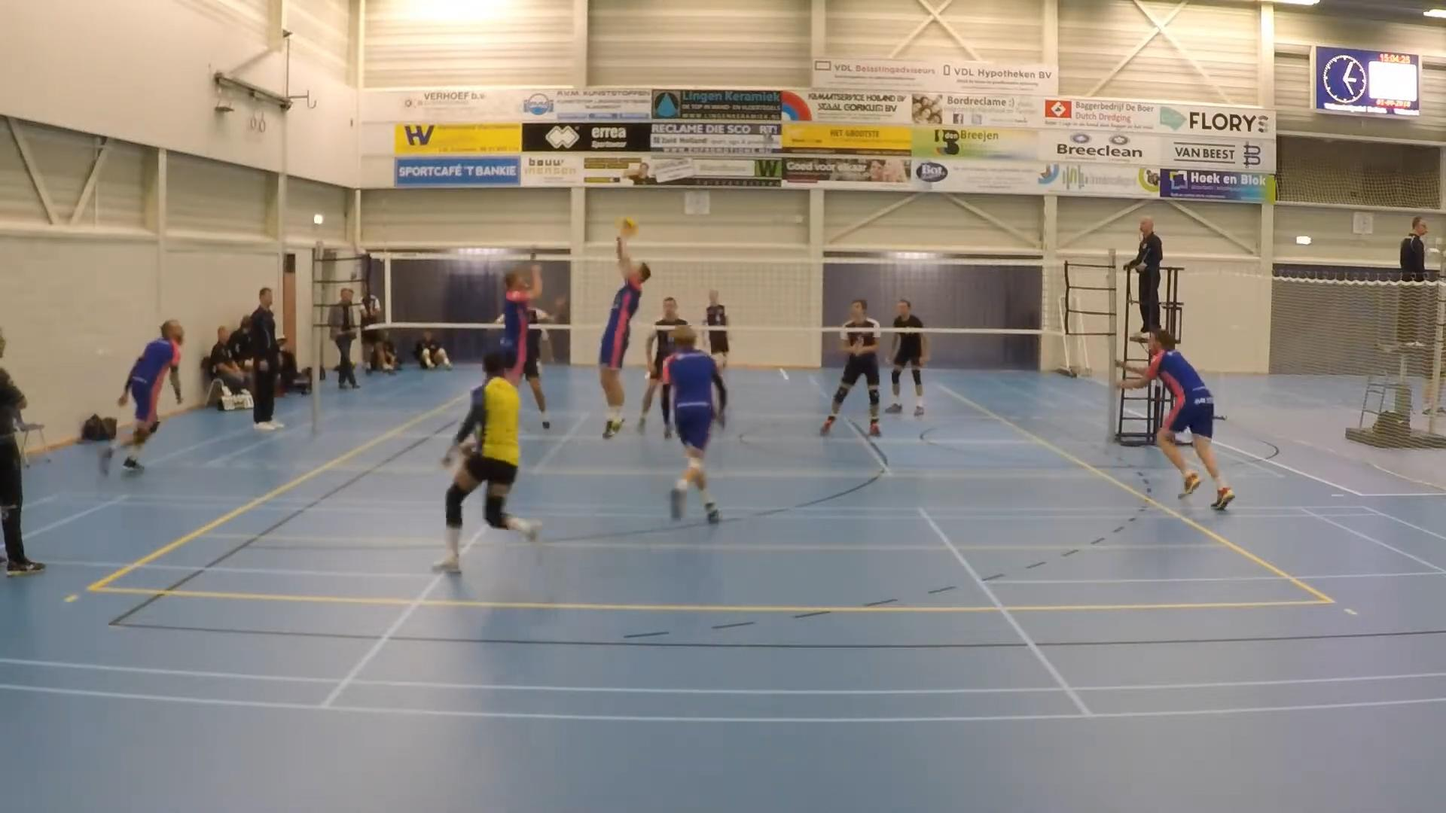Player: (435, 352, 539, 573), (1117, 329, 1234, 509), (99, 320, 183, 473), (661, 325, 726, 522), (502, 255, 550, 429), (820, 300, 880, 436), (639, 297, 686, 438), (502, 255, 541, 384), (521, 305, 552, 429), (886, 332, 929, 416), (705, 291, 728, 368)
Set: (578, 226, 666, 439)
ball: (611, 216, 648, 246)
